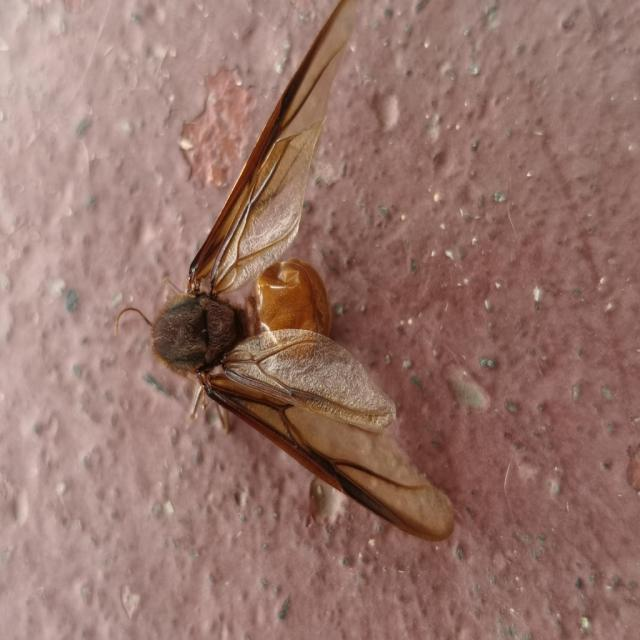Dead-Male-Alate: (115, 0, 456, 544)
